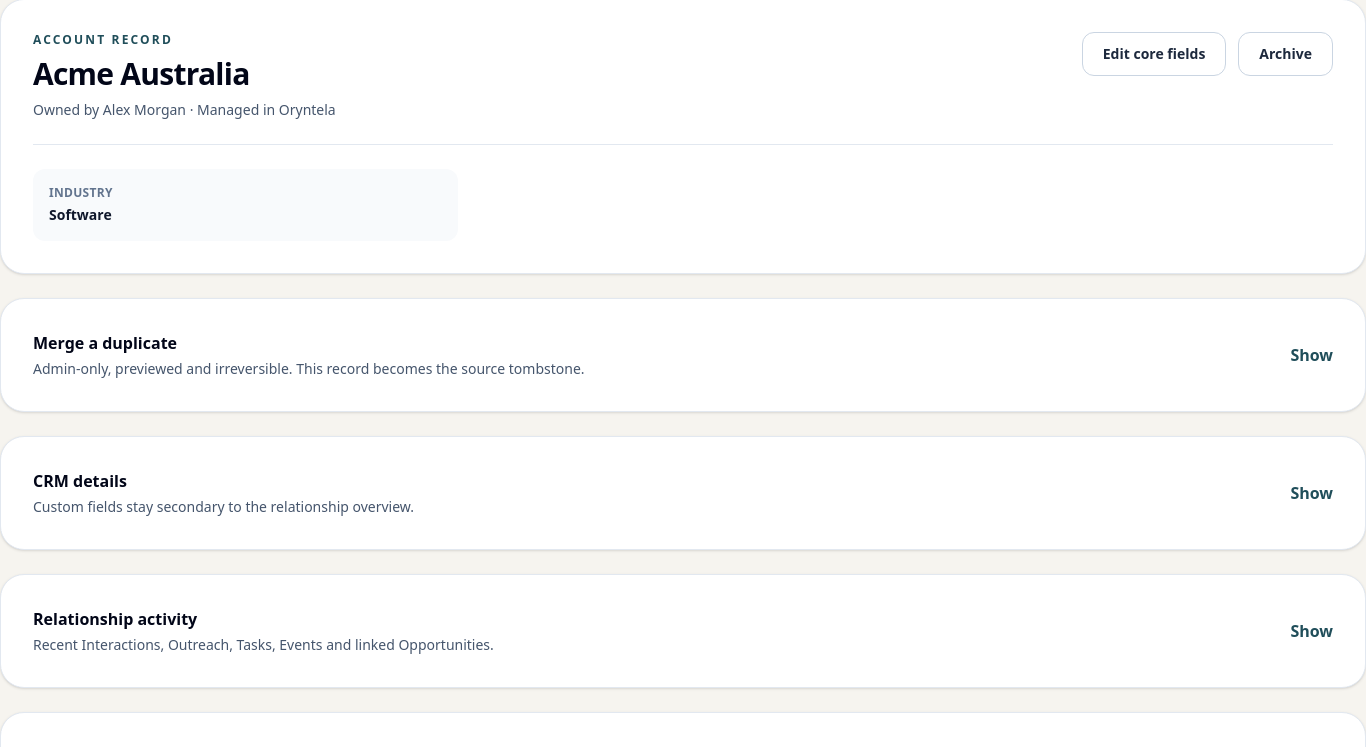
Scenario: CRMRecordPanel › shows ownership, custom fields, history and bounded relationship activity
Expected: the heading "Acme Australia" is shown, top-left (33, 53), bottom-right (250, 94)
Expected: the text "Owned by Alex Morgan · Managed in Oryntela" is shown, top-left (33, 100), bottom-right (336, 120)
Click the text "CRM details" at {"x": 80, "y": 481}, box top-left (33, 469), bottom-right (414, 517)
(page scrolled)
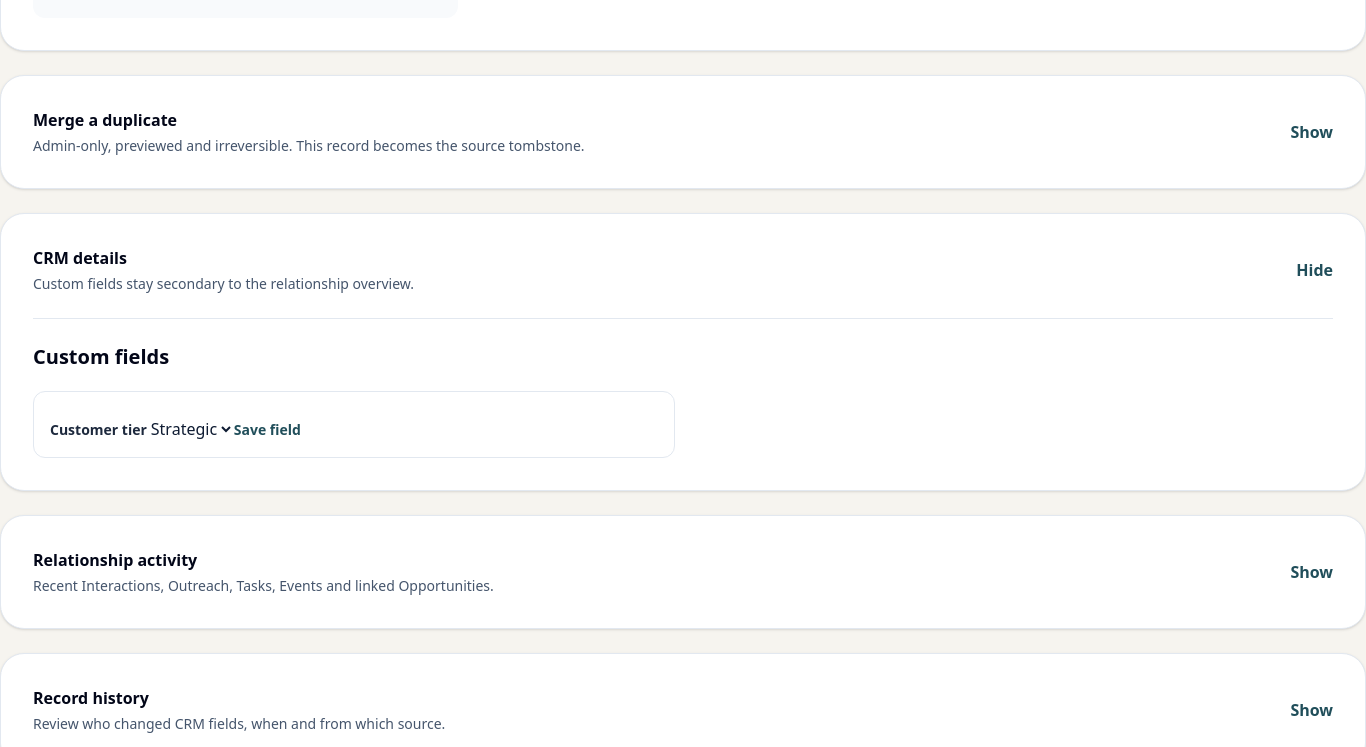
Click the text "Relationship activity" at {"x": 115, "y": 560}, box top-left (33, 548), bottom-right (494, 596)
(page scrolled)
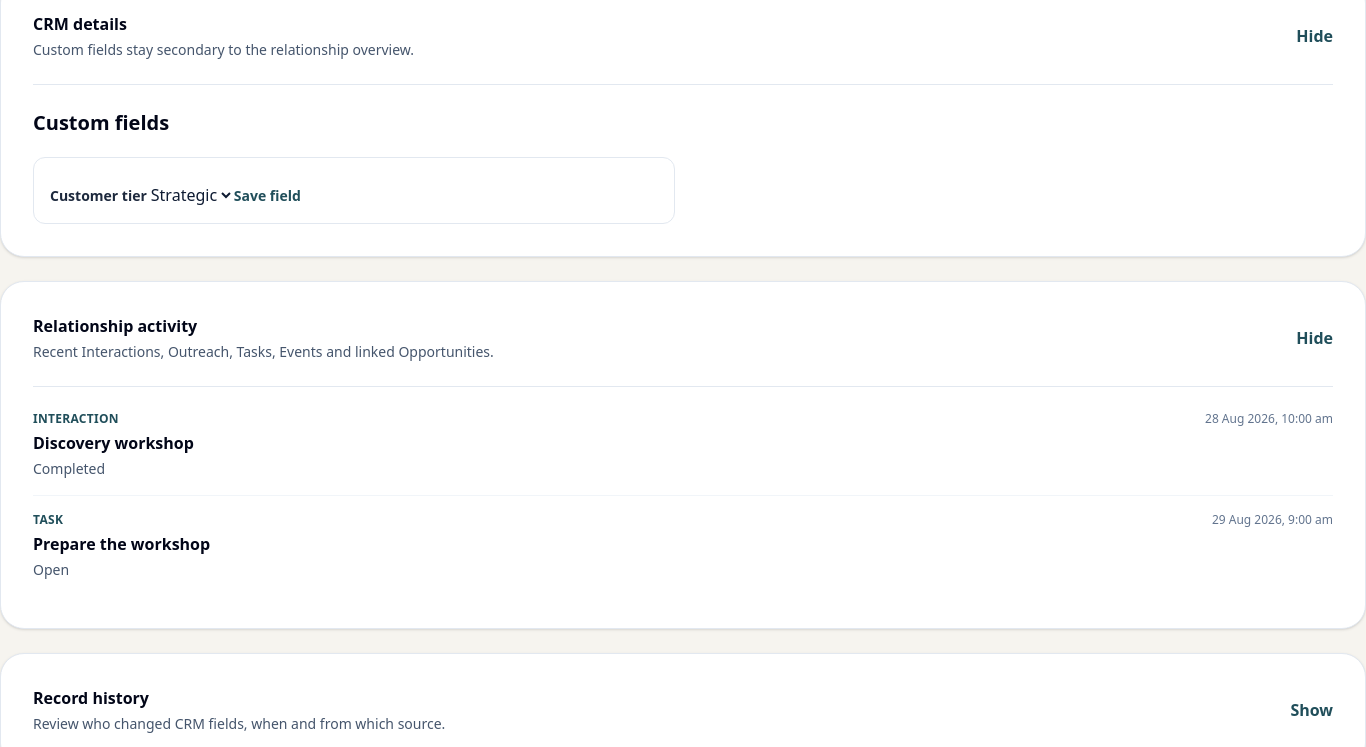
Click the text "Record history" at {"x": 91, "y": 698}, box top-left (33, 686), bottom-right (445, 734)
(page scrolled)
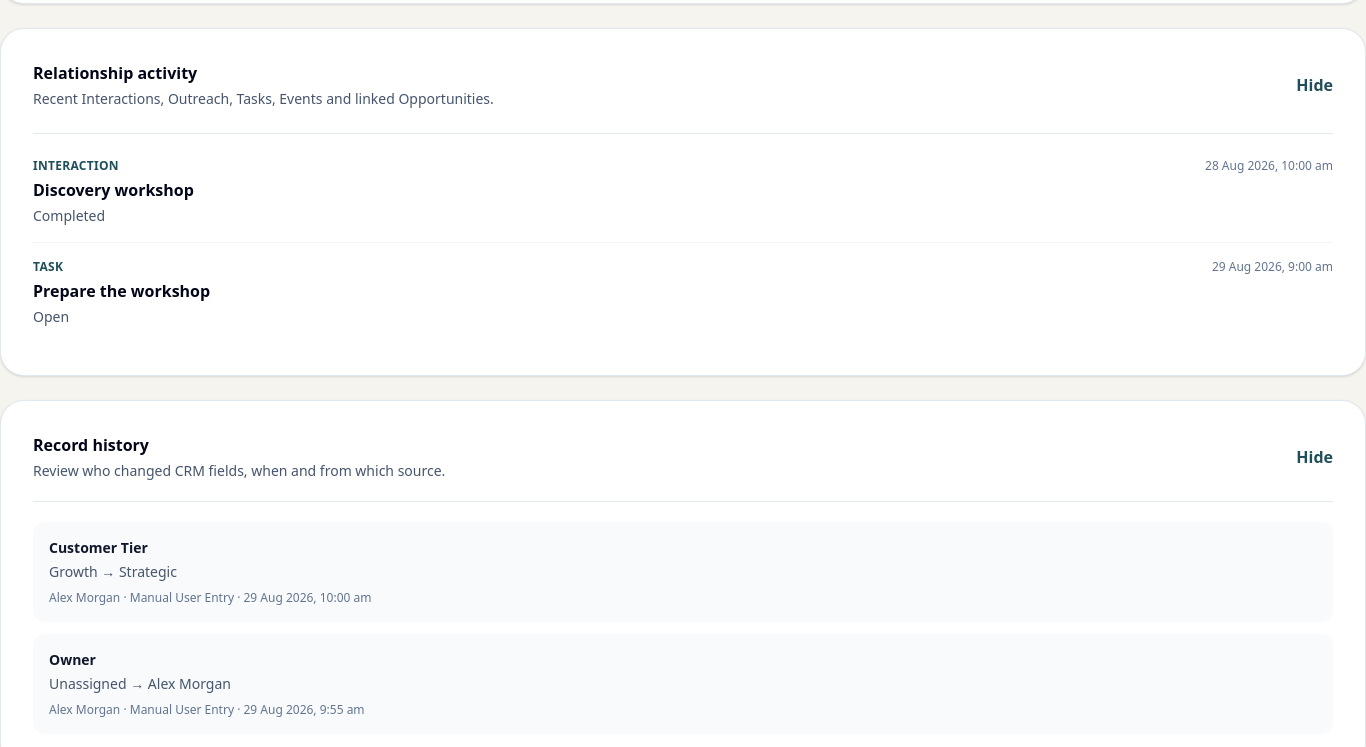
Now the text "Task" is shown, box top-left (33, 258), bottom-right (63, 275)
Now the text "Growth → Strategic" is shown, box top-left (49, 562), bottom-right (177, 581)
Now the text "Owner" is shown, box top-left (49, 650), bottom-right (96, 669)
